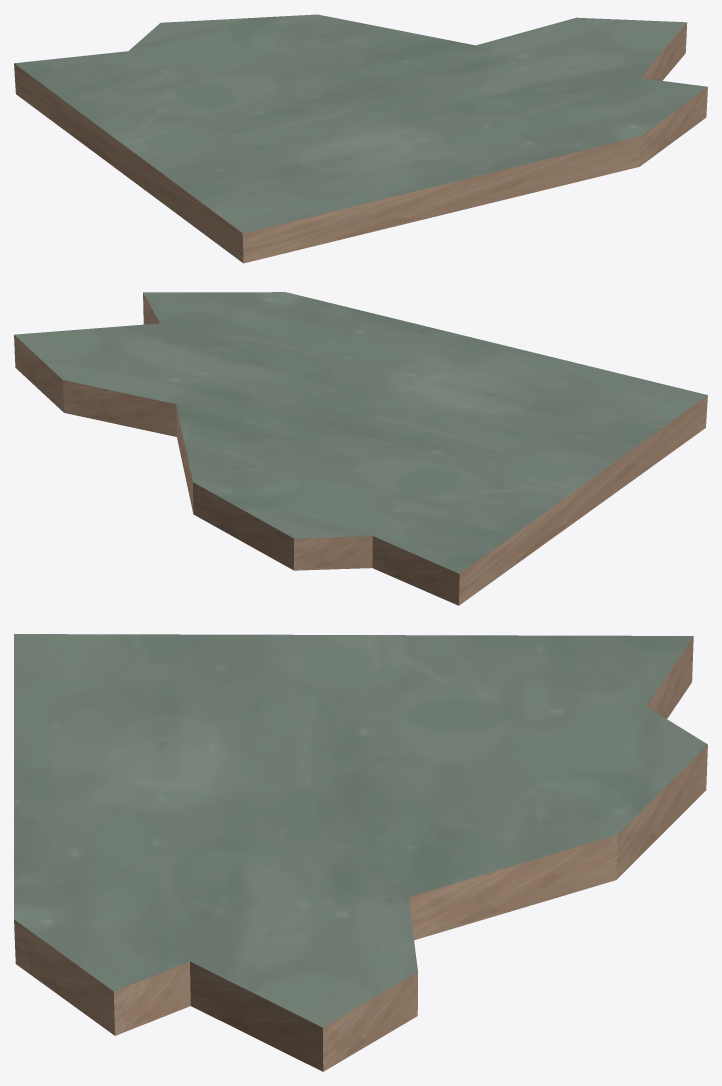
Rendered from debris_ceramic_shard.glb.
The picture shows the model from 3 angles, top to bottom: view 1: azimuth 30°, elevation 25°; view 2: azimuth 150°, elevation 25°; view 3: azimuth 270°, elevation 25°; orthographic projection. The views are drawn at different scales.
Visible parts, largest first — view 1: Ceramic Tile Shard; view 2: Ceramic Tile Shard; view 3: Ceramic Tile Shard.
Boxes of the visible parts, x1=… form: Ceramic Tile Shard: x1=14, y1=14, x2=707, y2=263; Ceramic Tile Shard: x1=14, y1=292, x2=707, y2=605; Ceramic Tile Shard: x1=14, y1=634, x2=707, y2=1071.
Size of the model in its own units: 0.196 by 0.0137 by 0.146.
1 material, 1 textured.
